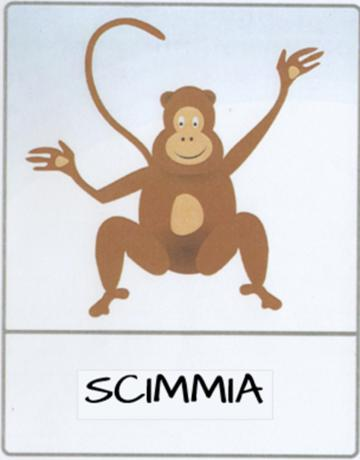scimmia: (2, 1, 360, 459)
